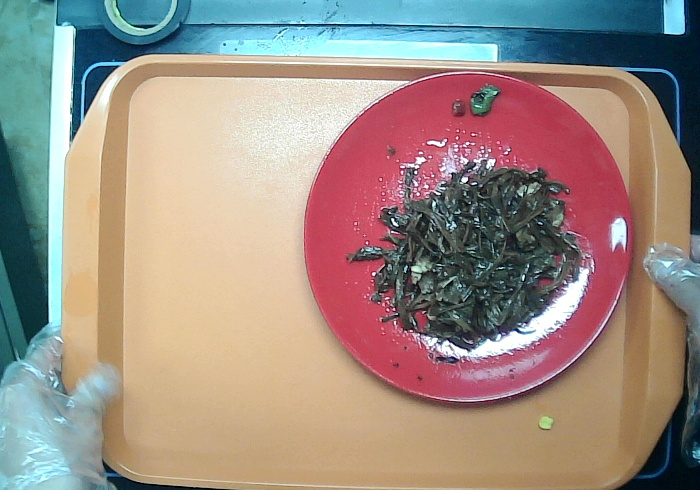HZYJPL-Hong_Se_Yuan_Pan: (300, 68, 639, 409)
